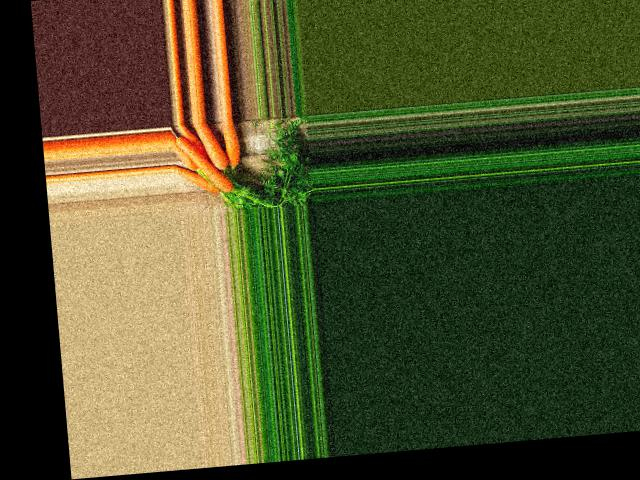carrot: (196, 136, 200, 171)
